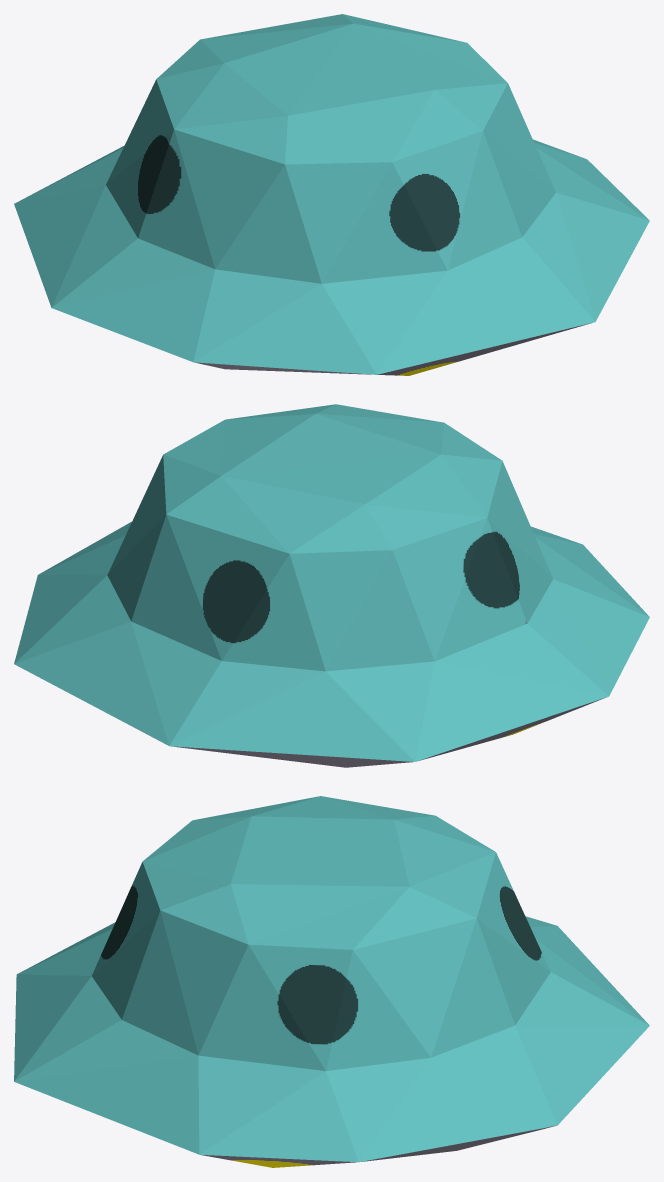
The model's file is UFO.obj.
3 views of the same model, one above another, from view 1: azimuth 30°, elevation 25°; view 2: azimuth 150°, elevation 25°; view 3: azimuth 270°, elevation 25° (orthographic). The views are drawn at different scales.
Visible parts, largest first — view 1: 円柱.001; view 2: 円柱.001; view 3: 円柱.001.
Boxes of the visible parts, left/top/right/bottom form: 円柱.001: left=14, top=14, right=649, bottom=375; 円柱.001: left=14, top=404, right=649, bottom=767; 円柱.001: left=14, top=796, right=649, bottom=1167.
Bounding box in the file's own units: 3.84 × 1.37 × 3.74.
